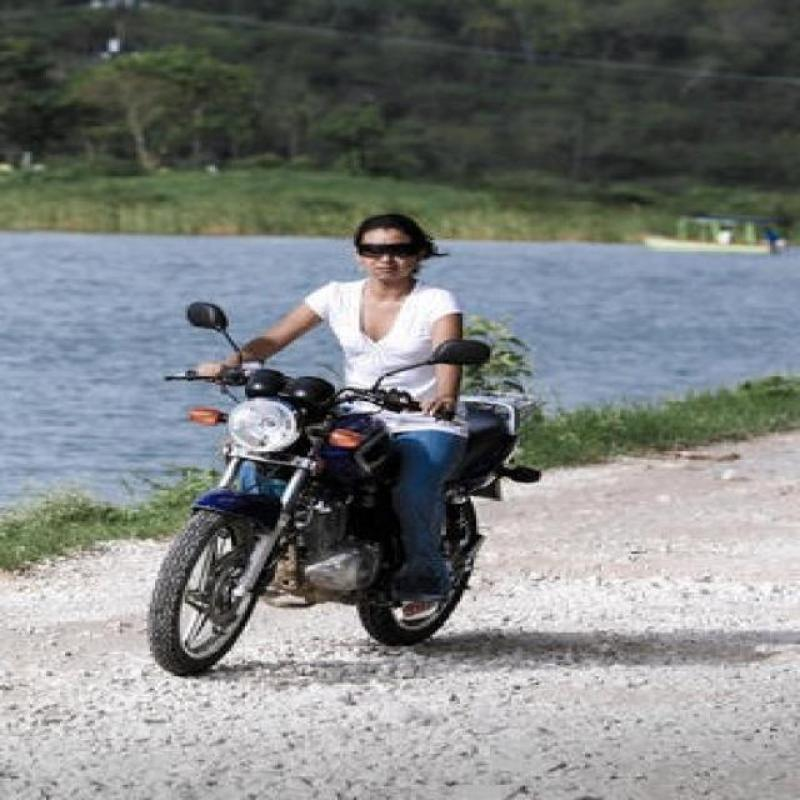nohelmet: (330, 206, 450, 278)
